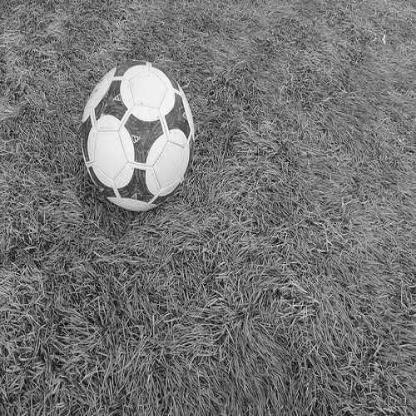ball: (82, 61, 195, 214)
